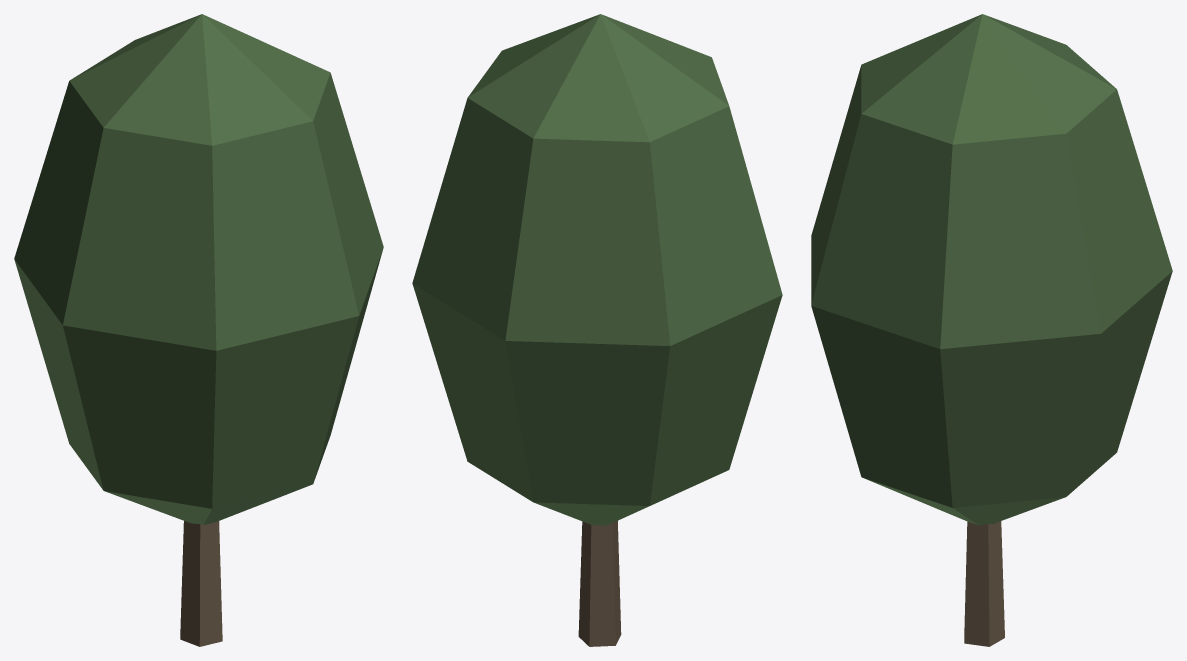
File: simple_tree_a.glb
3 views of the same model, side by side, from view 1: azimuth 30°, elevation 25°; view 2: azimuth 150°, elevation 25°; view 3: azimuth 270°, elevation 25° (orthographic).
Visible parts, largest first — view 1: SimpleTreeA; view 2: SimpleTreeA; view 3: SimpleTreeA.
Part boxes in pixels (bbox=[...]): SimpleTreeA: bbox=[14, 14, 383, 646]; SimpleTreeA: bbox=[412, 14, 782, 646]; SimpleTreeA: bbox=[811, 14, 1172, 646].
Bounding box in the file's own units: 5.44 × 10.1 × 5.3.
